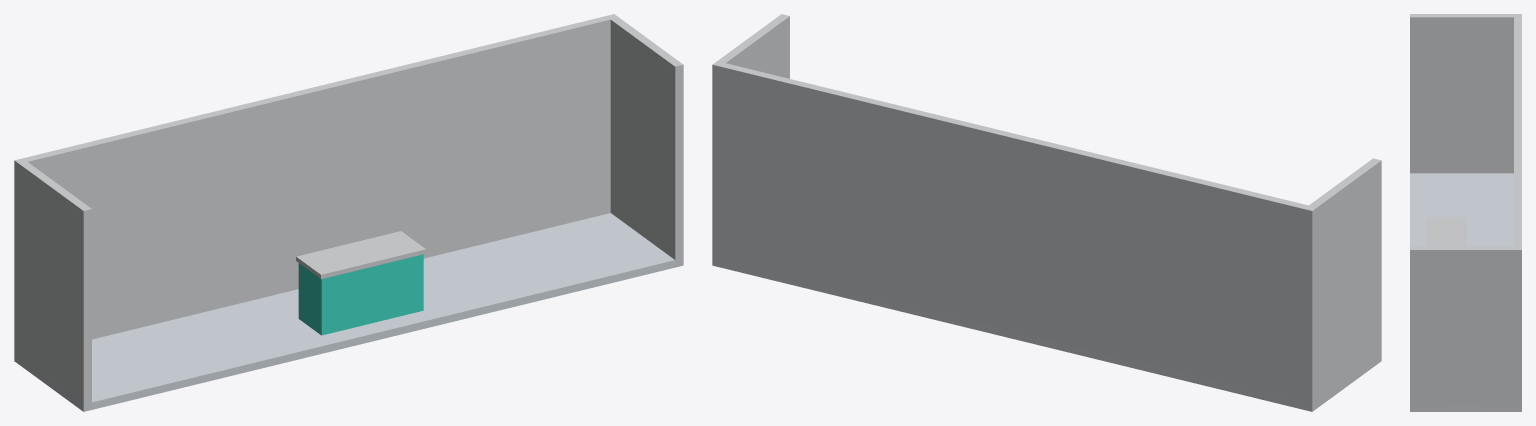
3 views of the same model, side by side, from view 1: azimuth 30°, elevation 25°; view 2: azimuth 150°, elevation 25°; view 3: azimuth 270°, elevation 25° (orthographic). The views are drawn at different scales.
Parts seen in each view (by area): view 1: Exhibition Booth Concept; view 2: Exhibition Booth Concept; view 3: Exhibition Booth Concept.
Part boxes in pixels (left/top/right/bottom): Exhibition Booth Concept: left=14, top=14, right=683, bottom=411; Exhibition Booth Concept: left=712, top=14, right=1381, bottom=411; Exhibition Booth Concept: left=1410, top=14, right=1521, bottom=411.
Bounding box in the file's own units: 10 × 3.2 × 2.
